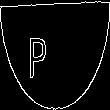P_N: (45, 29, 65, 81)
